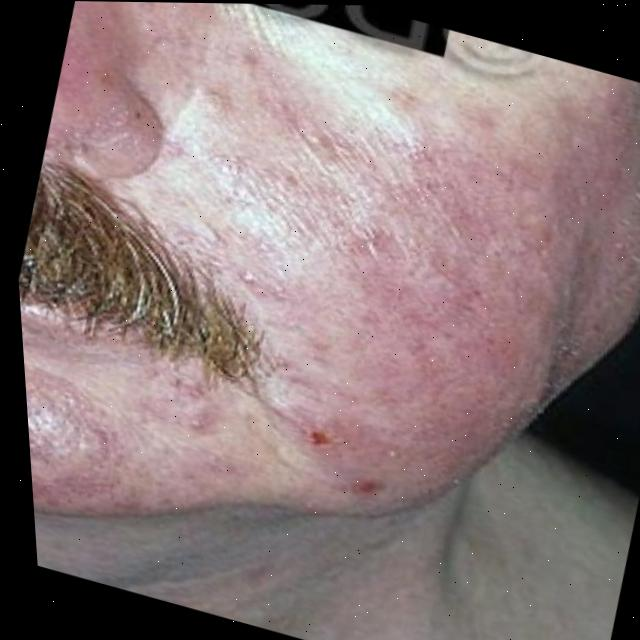Rosacea: (226, 96, 600, 564), (25, 371, 119, 514)
